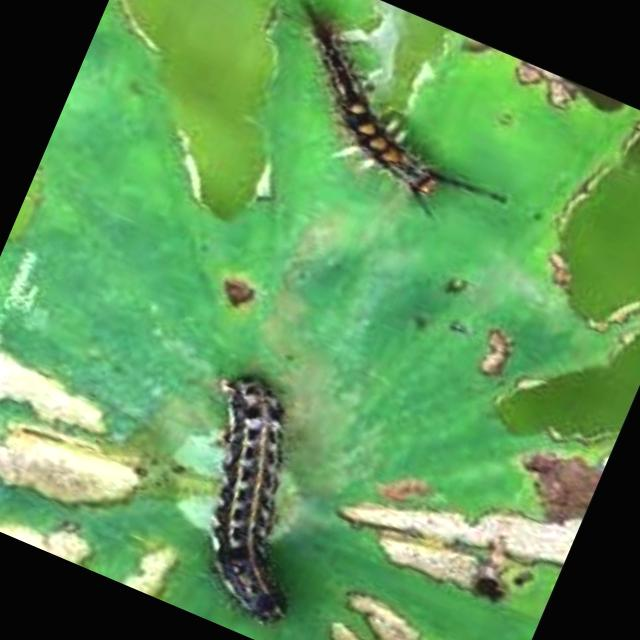Tobacco cutworm: (80, 300, 415, 640), (187, 0, 575, 292)
